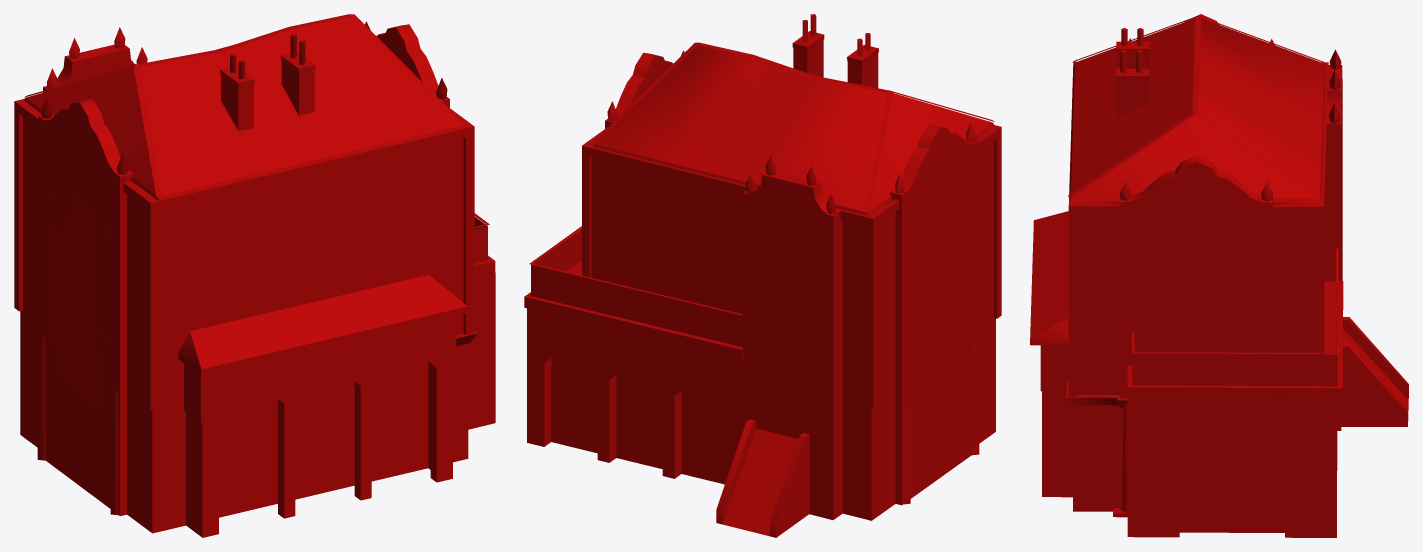
Rendered from residence_colony01_tier02_01_house_02_lod2.glb.
The picture shows the model from 3 angles, left to right: view 1: azimuth 30°, elevation 25°; view 2: azimuth 150°, elevation 25°; view 3: azimuth 270°, elevation 25°; orthographic projection. The views are drawn at different scales.
Visible parts, largest first — view 1: MODEL_MODEL_residence_colony01_tier02_01_house_02_lod2; view 2: MODEL_MODEL_residence_colony01_tier02_01_house_02_lod2; view 3: MODEL_MODEL_residence_colony01_tier02_01_house_02_lod2.
Boxes of the visible parts, <box> form: MODEL_MODEL_residence_colony01_tier02_01_house_02_lod2: <box>14,14,495,537</box>; MODEL_MODEL_residence_colony01_tier02_01_house_02_lod2: <box>524,14,1001,537</box>; MODEL_MODEL_residence_colony01_tier02_01_house_02_lod2: <box>1030,14,1408,537</box>.
Bounding box in the file's own units: 1.76 × 1.89 × 1.63.
